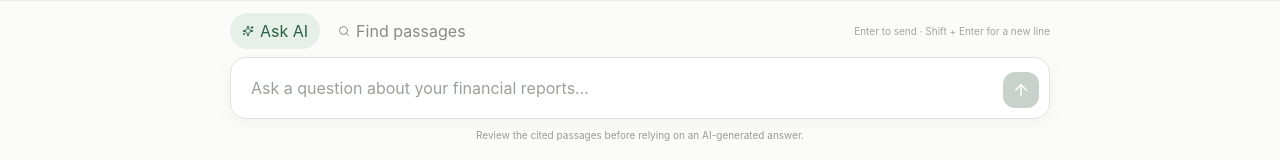
ChatComposer › keeps send disabled for an empty question and sends on Enter
This screenshot has width=1280, height=160.
Later steps or results of the test are not shown.
Expected: the button named "Send question" is disabled, x1=1003 y1=72 x2=1039 y2=108
In the text box named "Ask about your reports": (640, 88) x1=231 y1=58 x2=1049 y2=118, type "  Revenue trend?  "
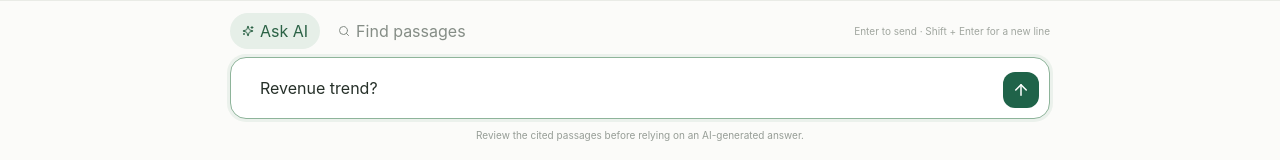
Result: the button named "Send question" is enabled at x1=1003 y1=72 x2=1039 y2=108
